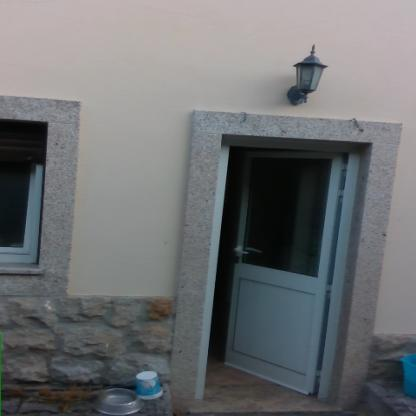semi: (192, 107, 386, 411)
